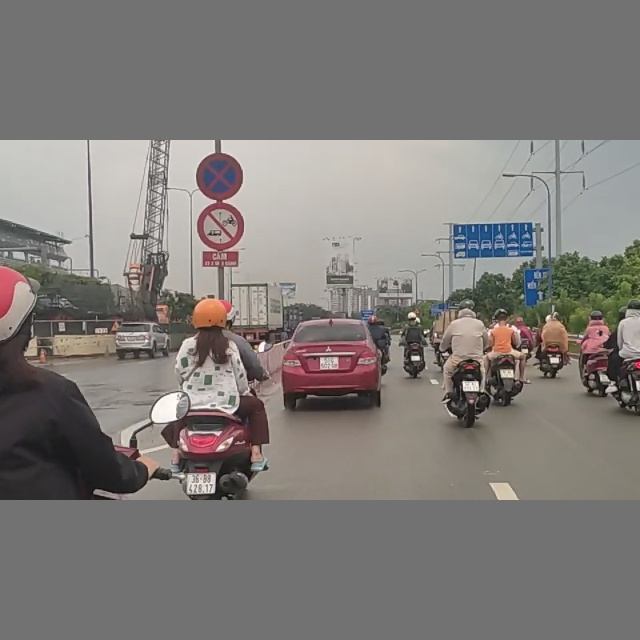P.111: (197, 202, 244, 249)
P.130: (196, 153, 242, 200)
